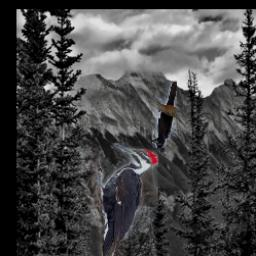Crow: (152, 81, 177, 148)
Woodpecker: (90, 143, 159, 256)
